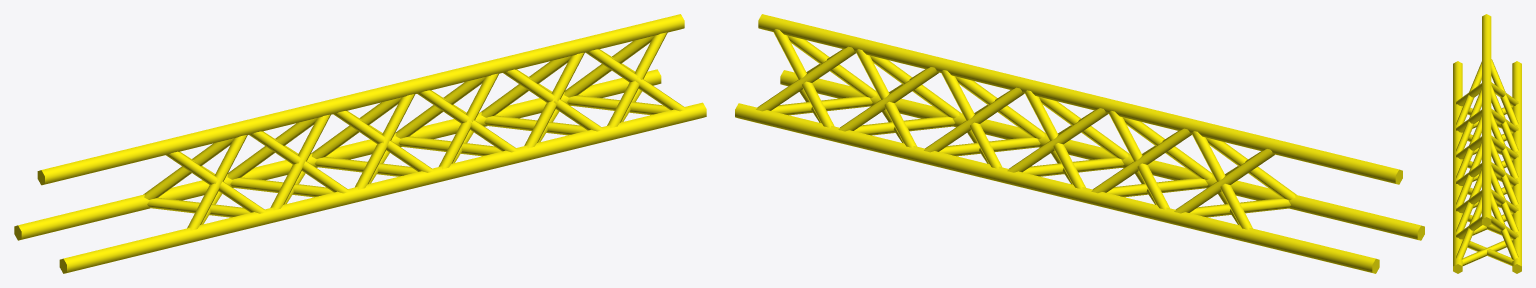
File: SupportBeam.fbx
3 renders of one model, left to right at view 1: azimuth 30°, elevation 25°; view 2: azimuth 150°, elevation 25°; view 3: azimuth 270°, elevation 25°, orthographic. The views are drawn at different scales.
Parts seen in each view (by area): view 1: Cylinder__1_; view 2: Cylinder__1_; view 3: Cylinder__1_.
Boxes of the visible parts, box(x1,y1,x2,y2) form: Cylinder__1_: box(14, 14, 706, 273); Cylinder__1_: box(735, 14, 1424, 273); Cylinder__1_: box(1453, 14, 1521, 273).
Size of the model in its own units: 6500 by 853 by 930.
